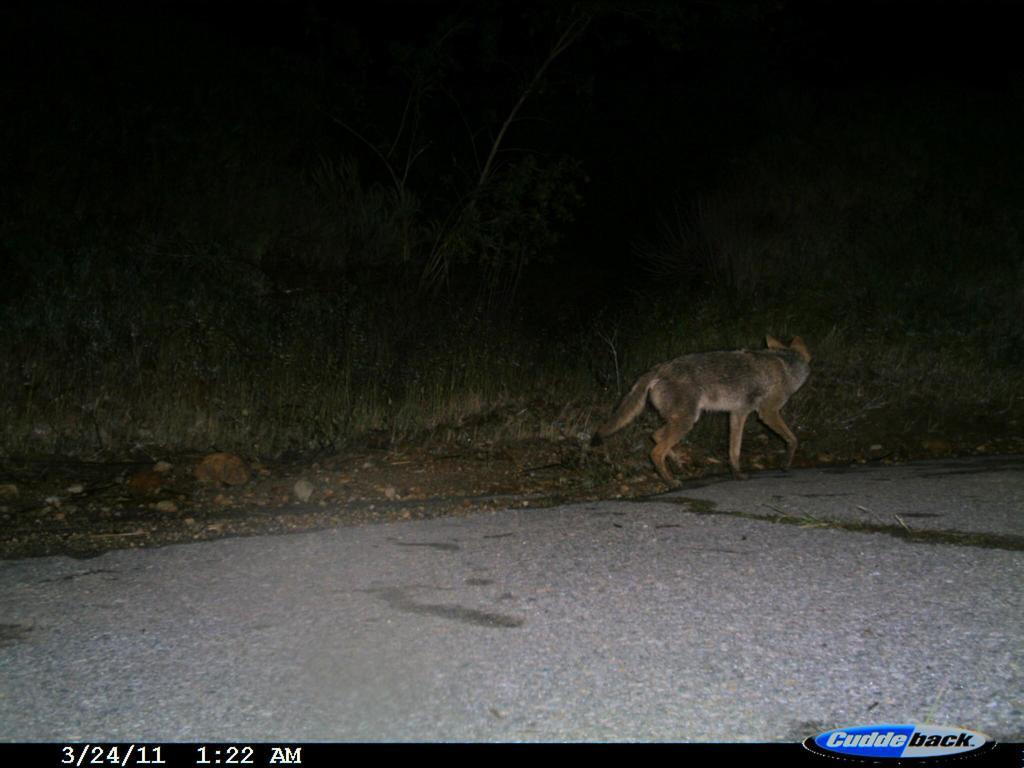coyote: (588, 324, 822, 495)
